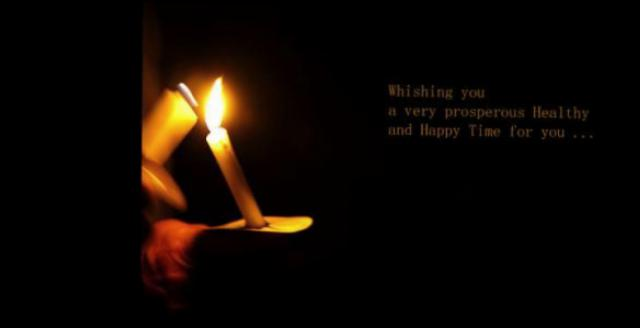fire: (202, 70, 225, 130)
